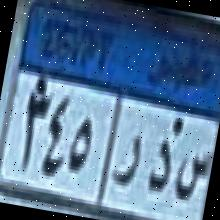3: (14, 93, 51, 170)
4: (40, 90, 75, 183)
5: (64, 114, 98, 184)
daal: (141, 136, 177, 199)
raa: (111, 130, 145, 198)
seen: (171, 142, 214, 210)
